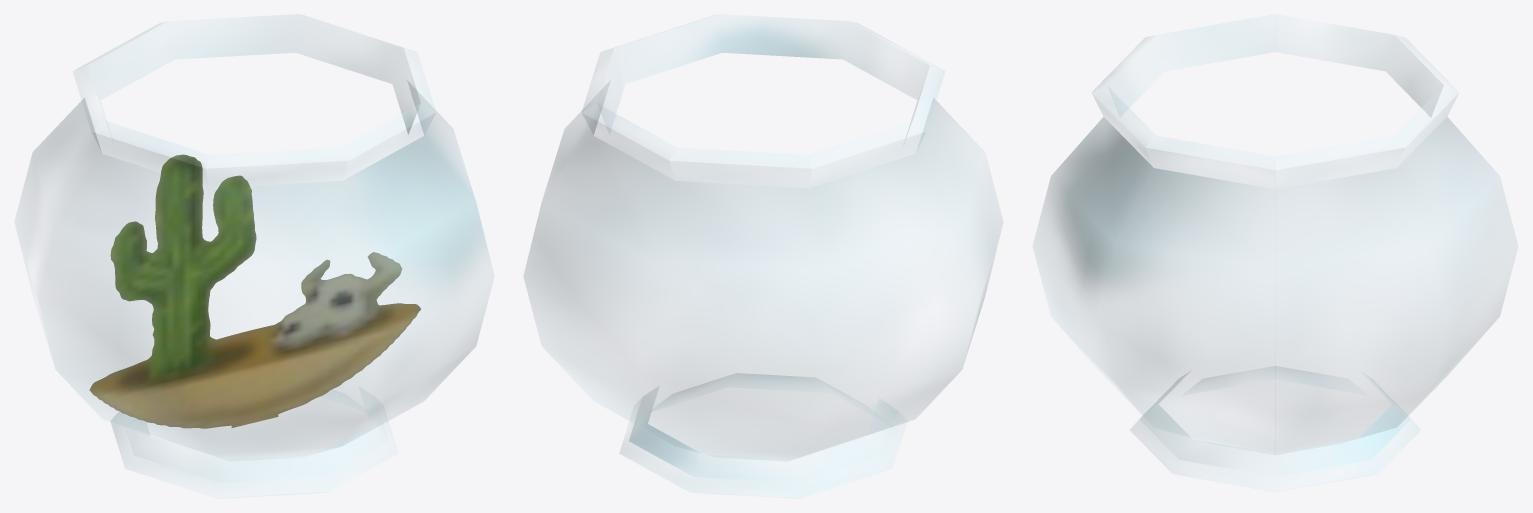
The model's file is UWskullBowl.glb.
3 renders of one model, left to right at view 1: azimuth 30°, elevation 25°; view 2: azimuth 150°, elevation 25°; view 3: azimuth 270°, elevation 25°, orthographic. The views are drawn at different scales.
Parts seen in each view (by area): view 1: bowl, skullScene__billboard, base; view 2: bowl, base; view 3: bowl, base.
Boxes of the visible parts, x1,y1,x2,y2 form: bowl: [15, 14, 493, 460]; skullScene__billboard: [89, 154, 420, 428]; base: [111, 387, 397, 498]; bowl: [523, 14, 1002, 460]; base: [620, 373, 906, 498]; bowl: [1033, 14, 1517, 454]; base: [1130, 366, 1420, 491].
Size of the model in its own units: 2.06 by 1.64 by 2.06.
2 materials, 2 textured.
